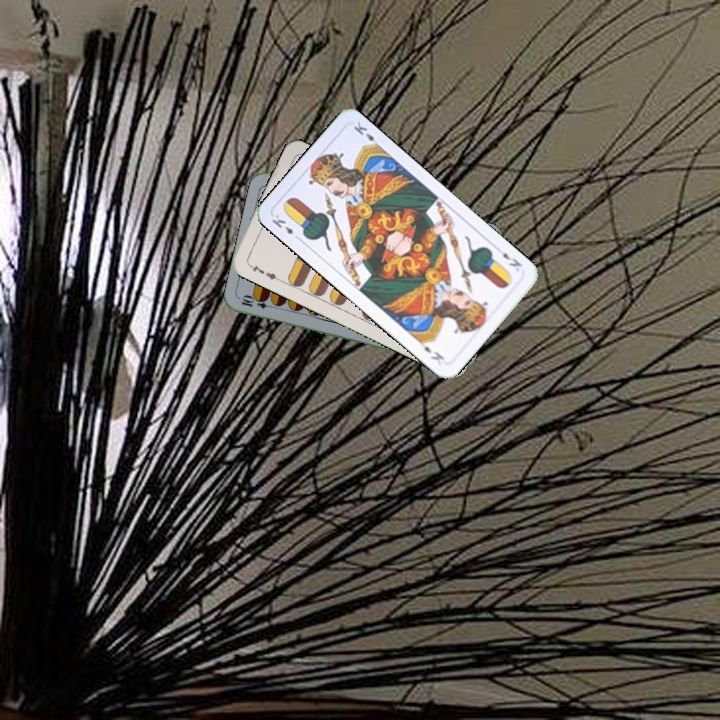E10: (237, 293, 278, 311)
E7: (244, 259, 282, 283)
EK: (268, 210, 303, 243), (498, 248, 525, 270)
